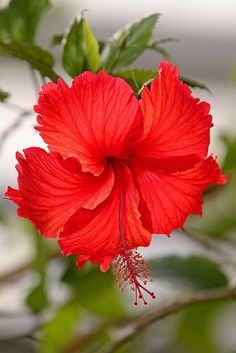Hibiscus: (10, 57, 220, 308)
